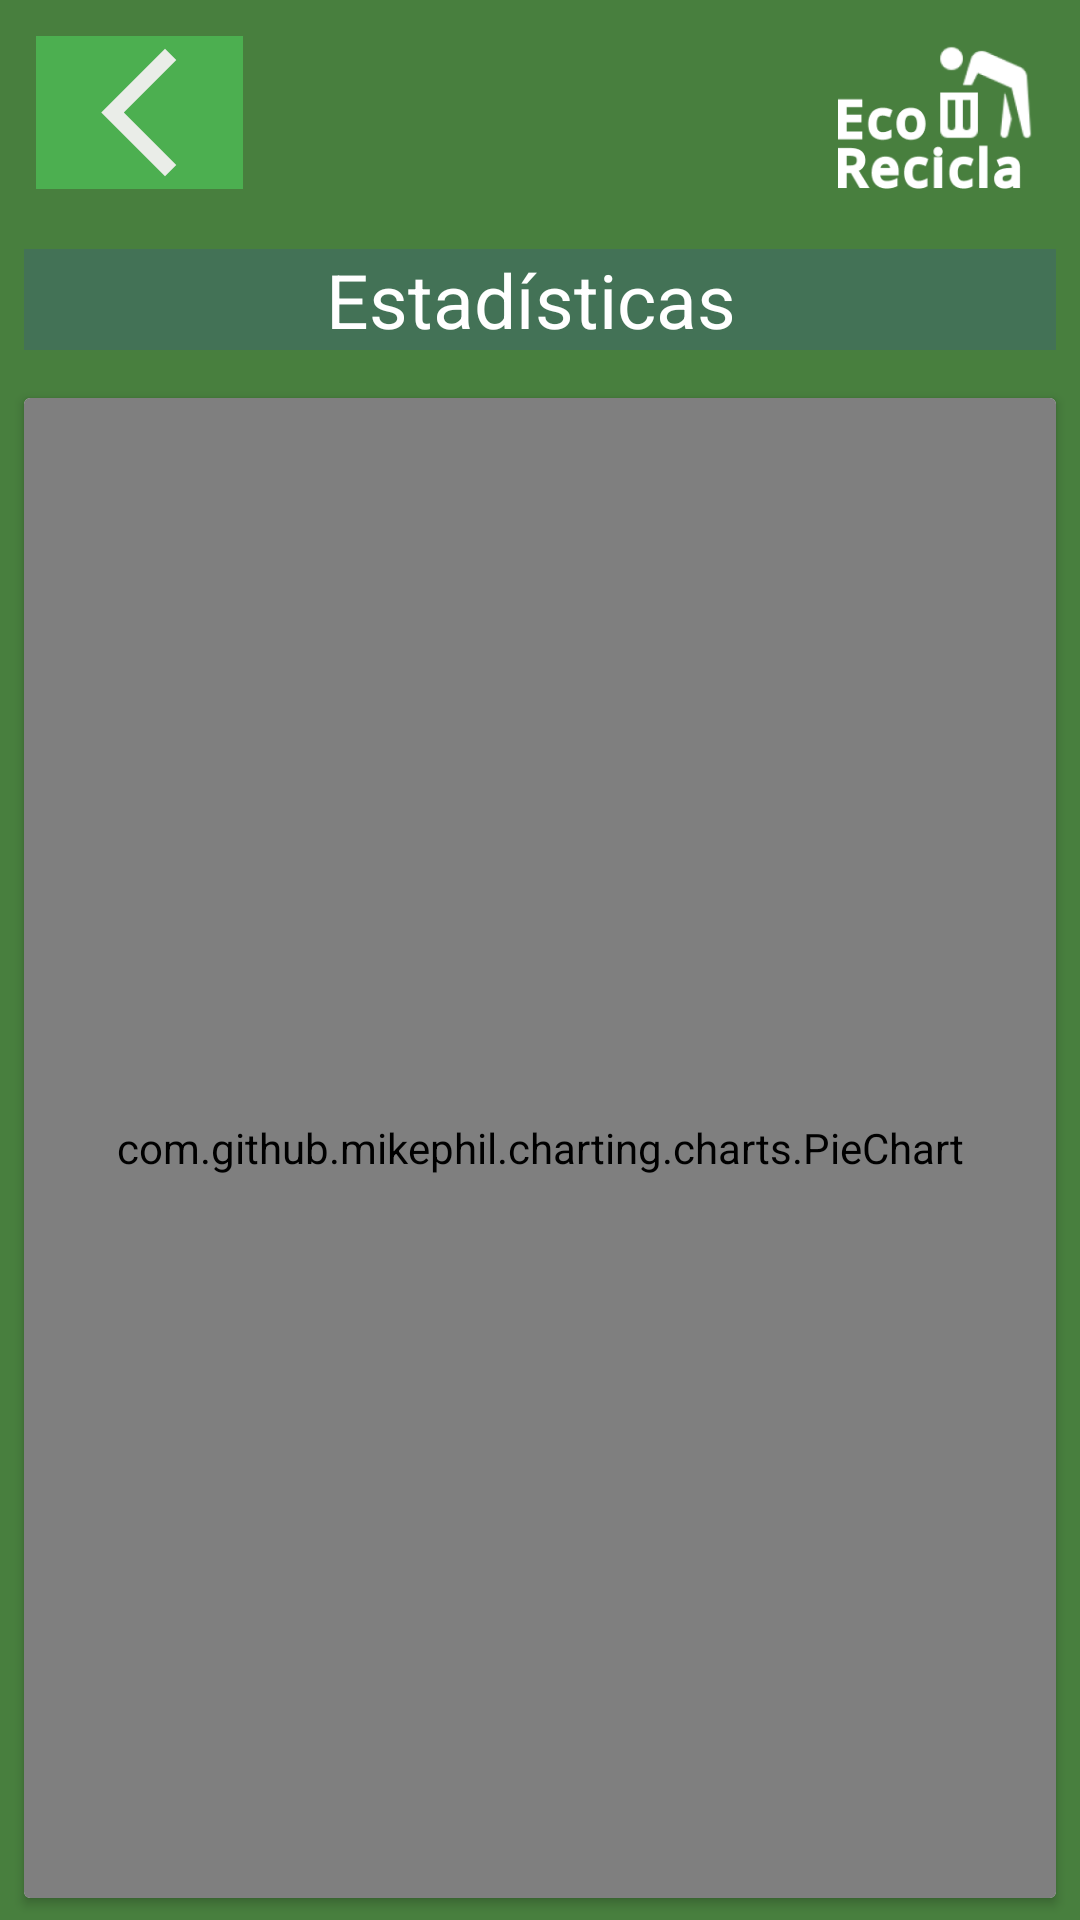

Named icons in this screenshot (1080x1920) and their bounding boxes, rect(x1, y1, x2, y2):
back: rect(36, 36, 243, 189)
